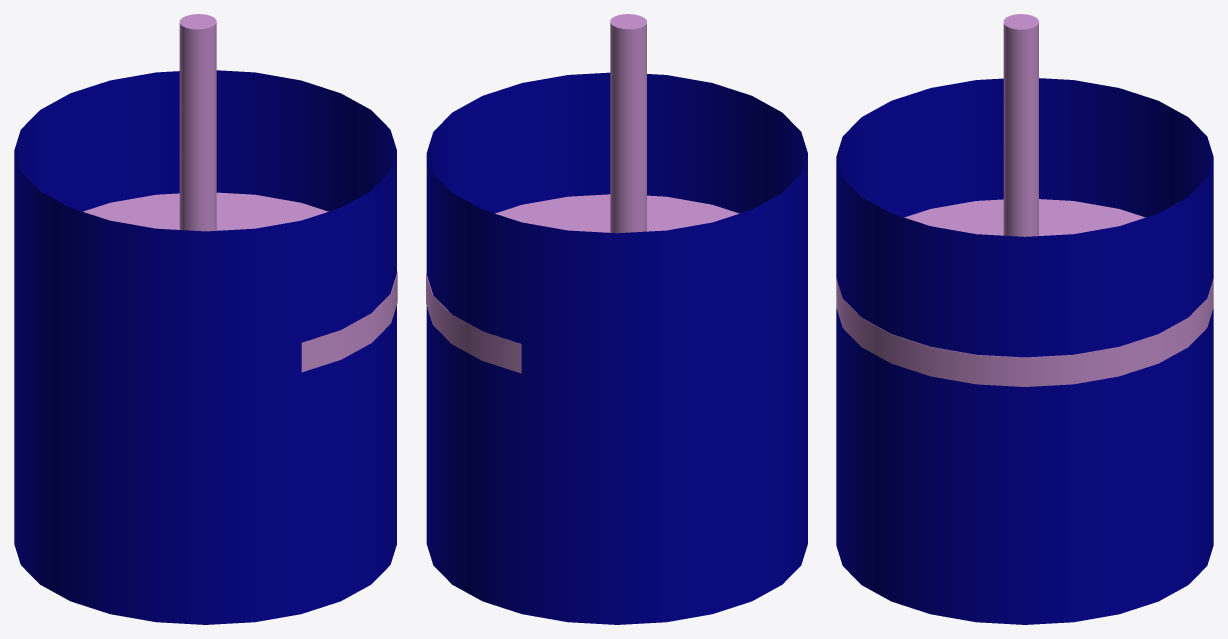
File: cylynder.FBX
3 views of the same model, side by side, from view 1: azimuth 30°, elevation 25°; view 2: azimuth 150°, elevation 25°; view 3: azimuth 270°, elevation 25° (orthographic).
Visible parts, largest first — view 1: Cone001, Object001; view 2: Cone001, Object001; view 3: Cone001, Object001.
Boxes of the visible parts, bbox=[...] form: Cone001: bbox=[14, 70, 396, 624]; Object001: bbox=[83, 14, 397, 372]; Cone001: bbox=[426, 72, 807, 624]; Object001: bbox=[426, 14, 739, 373]; Cone001: bbox=[836, 78, 1213, 624]; Object001: bbox=[836, 14, 1213, 386].
Bounding box in the file's own units: 34.4 × 52.07 × 34.34.
